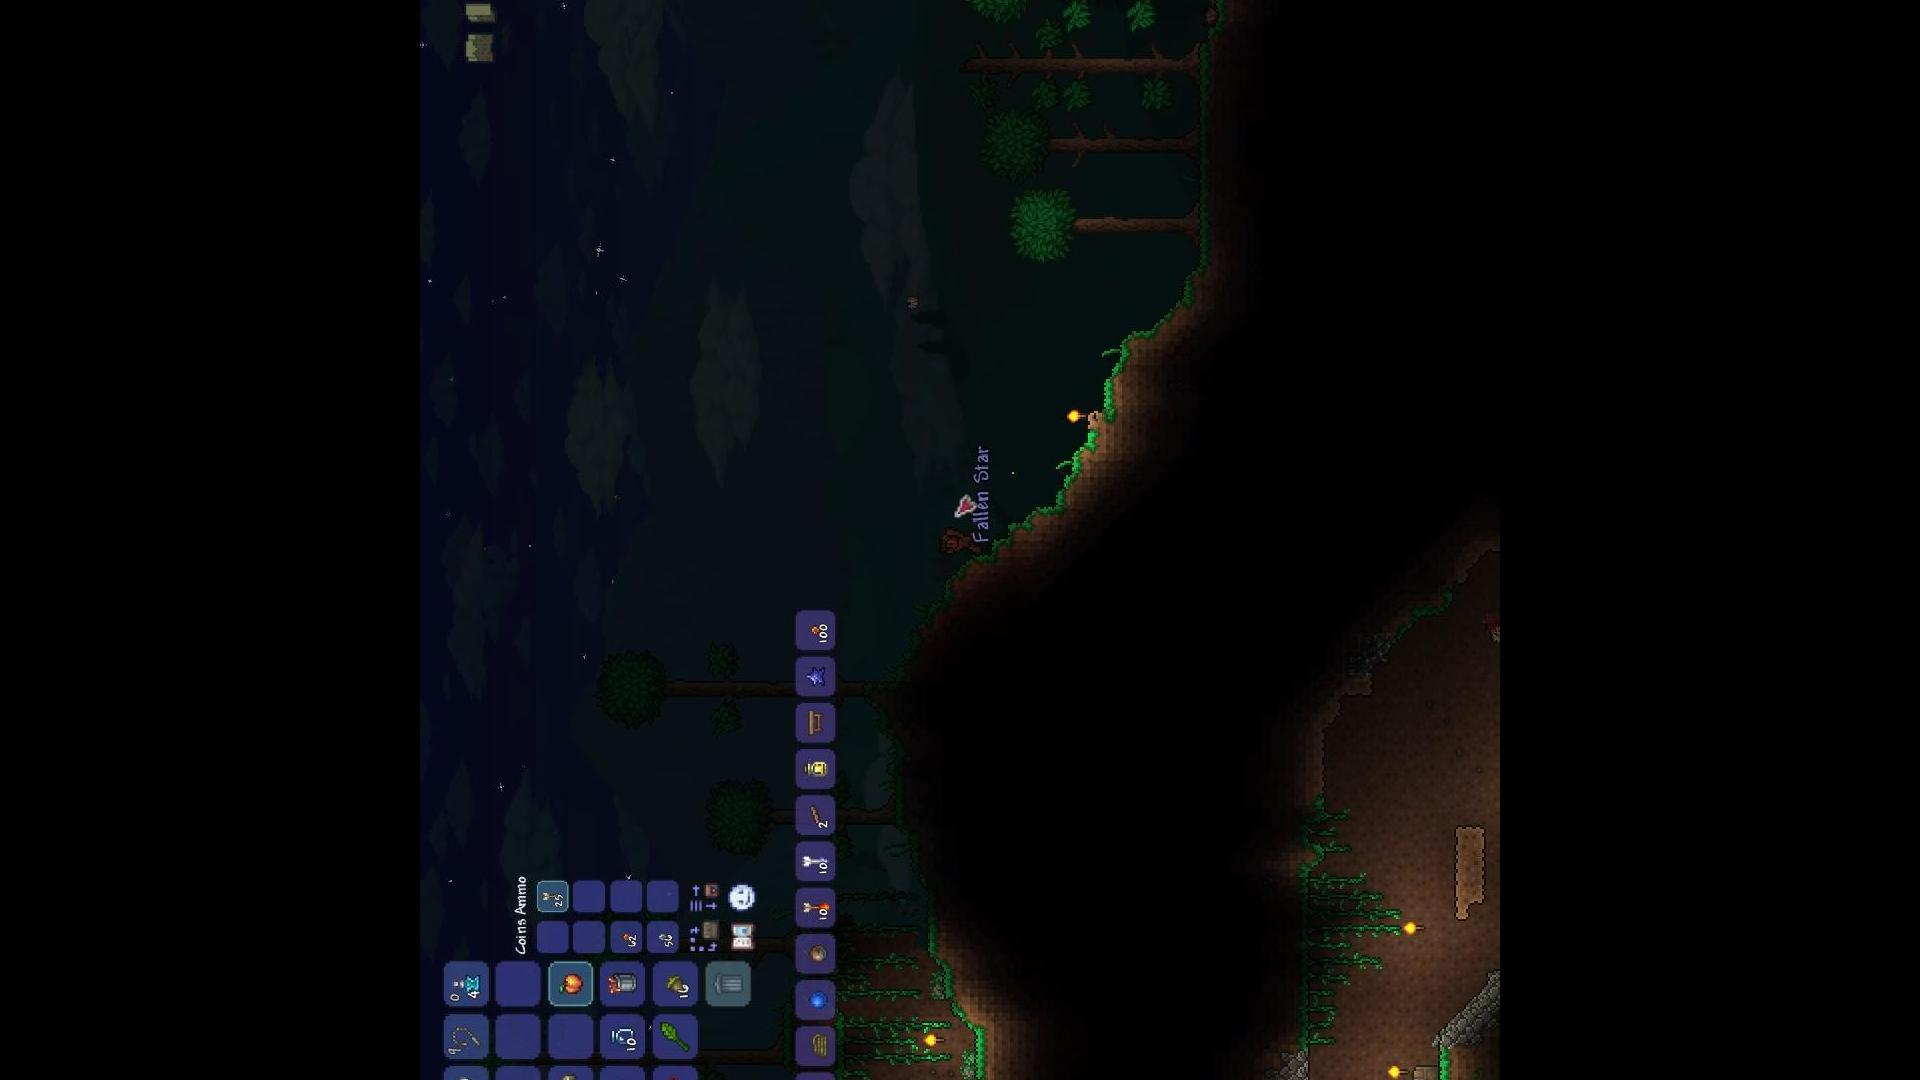dirt: (997, 310, 1163, 558), (920, 926, 1118, 1080), (1168, 0, 1244, 303), (1429, 1044, 1460, 1080)
